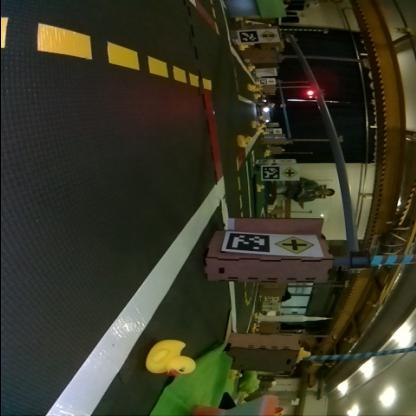Duckie: (146, 340, 196, 376), (237, 134, 251, 146), (299, 347, 311, 360), (231, 370, 243, 378), (247, 64, 255, 70), (252, 93, 260, 99), (256, 184, 263, 190), (241, 44, 248, 50), (252, 121, 260, 126), (247, 86, 255, 90)
Duckiebot: (257, 102, 275, 122)
Intersection sign: (276, 236, 314, 254), (282, 166, 297, 178)
QR code: (226, 231, 271, 253), (239, 30, 258, 42), (262, 166, 280, 178), (260, 78, 268, 84)
Signal sign: (262, 29, 276, 41)
Traffic light: (304, 90, 320, 98)
